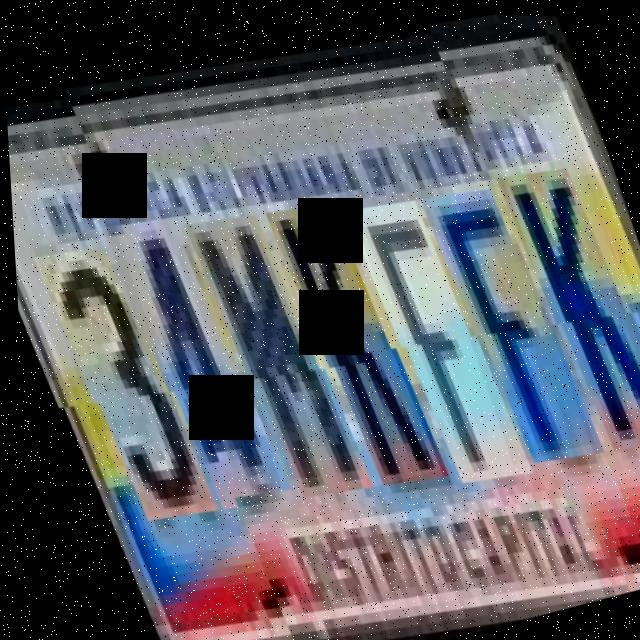3: (28, 223, 203, 523)
4: (99, 201, 276, 508)
F: (340, 176, 519, 485), (416, 164, 590, 462)
K: (262, 182, 435, 489), (495, 148, 640, 457)
M: (182, 195, 361, 503)
